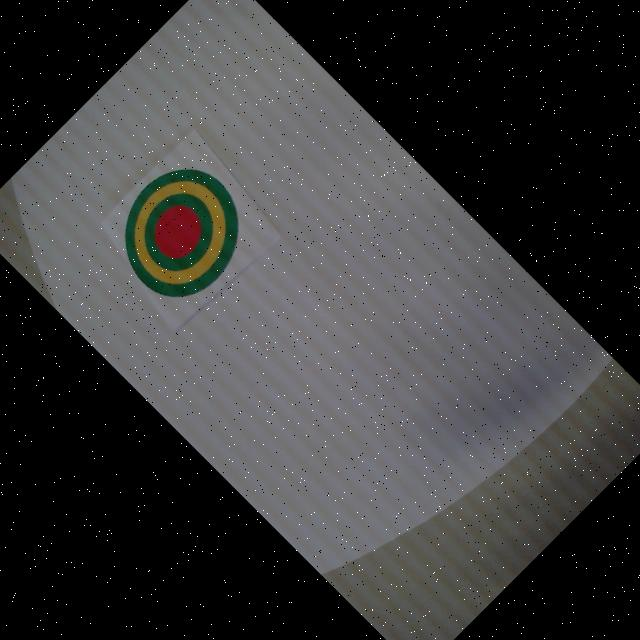COGNITIVE: (94, 146, 267, 320)
